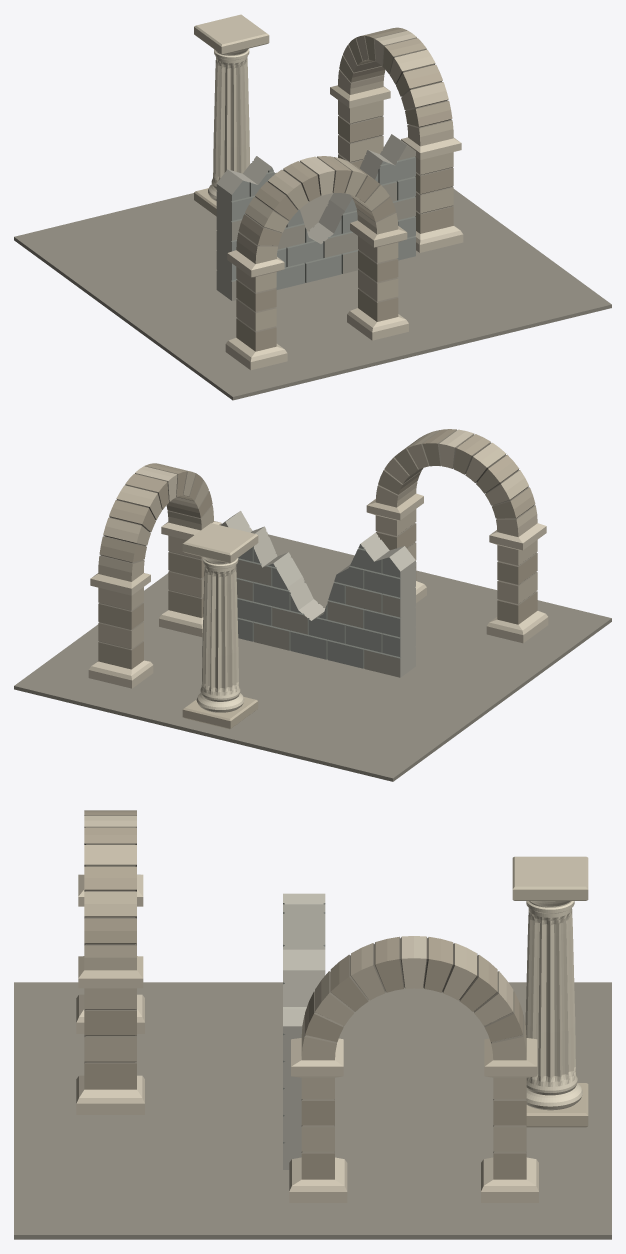
The picture shows the model from 3 angles, top to bottom: view 1: azimuth 30°, elevation 25°; view 2: azimuth 150°, elevation 25°; view 3: azimuth 270°, elevation 25°; orthographic projection. The views are drawn at different scales.
Visible parts, largest first — view 1: SCENE_ONLY__Continuous_Ruin_Ground, south_entry_arch__ContinuousThirteenVoussoirArch, east_exit_arch__ContinuousThirteenVoussoirArch, central_ruin_baffle__ContinuousBreachedMasonry, north_viewing_column__Shaft_ContinuousSixteenFlutesNeckEchin, north_viewing_column__Capital_ThickSquareAbacus; view 2: SCENE_ONLY__Continuous_Ruin_Ground, central_ruin_baffle__ContinuousBreachedMasonry, east_exit_arch__ContinuousThirteenVoussoirArch, south_entry_arch__ContinuousThirteenVoussoirArch, north_viewing_column__Shaft_ContinuousSixteenFlutesNeckEchin, north_viewing_column__Capital_ThickSquareAbacus, north_viewing_column__Plinth_CompleteChamferedSquare; view 3: SCENE_ONLY__Continuous_Ruin_Ground, east_exit_arch__ContinuousThirteenVoussoirArch, south_entry_arch__ContinuousThirteenVoussoirArch, north_viewing_column__Shaft_ContinuousSixteenFlutesNeckEchin, central_ruin_baffle__ContinuousBreachedMasonry, north_viewing_column__Capital_ThickSquareAbacus, north_viewing_column__Plinth_CompleteChamferedSquare.
Part boxes in pixels (x1=…): SCENE_ONLY__Continuous_Ruin_Ground: x1=14, y1=172, x2=611, y2=400; south_entry_arch__ContinuousThirteenVoussoirArch: x1=225, y1=156, x2=408, y2=370; east_exit_arch__ContinuousThirteenVoussoirArch: x1=330, y1=27, x2=463, y2=252; central_ruin_baffle__ContinuousBreachedMasonry: x1=216, y1=134, x2=415, y2=300; north_viewing_column__Shaft_ContinuousSixteenFlutesNeckEchin: x1=208, y1=48, x2=249, y2=201; north_viewing_column__Capital_ThickSquareAbacus: x1=194, y1=14, x2=269, y2=54; SCENE_ONLY__Continuous_Ruin_Ground: x1=14, y1=530, x2=611, y2=781; central_ruin_baffle__ContinuousBreachedMasonry: x1=220, y1=511, x2=415, y2=677; east_exit_arch__ContinuousThirteenVoussoirArch: x1=88, y1=463, x2=221, y2=688; south_entry_arch__ContinuousThirteenVoussoirArch: x1=366, y1=429, x2=548, y2=643; north_viewing_column__Shaft_ContinuousSixteenFlutesNeckEchin: x1=196, y1=557, x2=244, y2=712; north_viewing_column__Capital_ThickSquareAbacus: x1=182, y1=523, x2=258, y2=563; north_viewing_column__Plinth_CompleteChamferedSquare: x1=182, y1=696, x2=258, y2=729; SCENE_ONLY__Continuous_Ruin_Ground: x1=14, y1=982, x2=611, y2=1239; east_exit_arch__ContinuousThirteenVoussoirArch: x1=289, y1=936, x2=538, y2=1202; south_entry_arch__ContinuousThirteenVoussoirArch: x1=76, y1=810, x2=144, y2=1114; north_viewing_column__Shaft_ContinuousSixteenFlutesNeckEchin: x1=525, y1=901, x2=582, y2=1110; central_ruin_baffle__ContinuousBreachedMasonry: x1=283, y1=893, x2=325, y2=1169; north_viewing_column__Capital_ThickSquareAbacus: x1=512, y1=856, x2=588, y2=900; north_viewing_column__Plinth_CompleteChamferedSquare: x1=526, y1=1083, x2=588, y2=1127.
Bounding box in the file's own units: 6.8 × 3.09 × 6.8.
